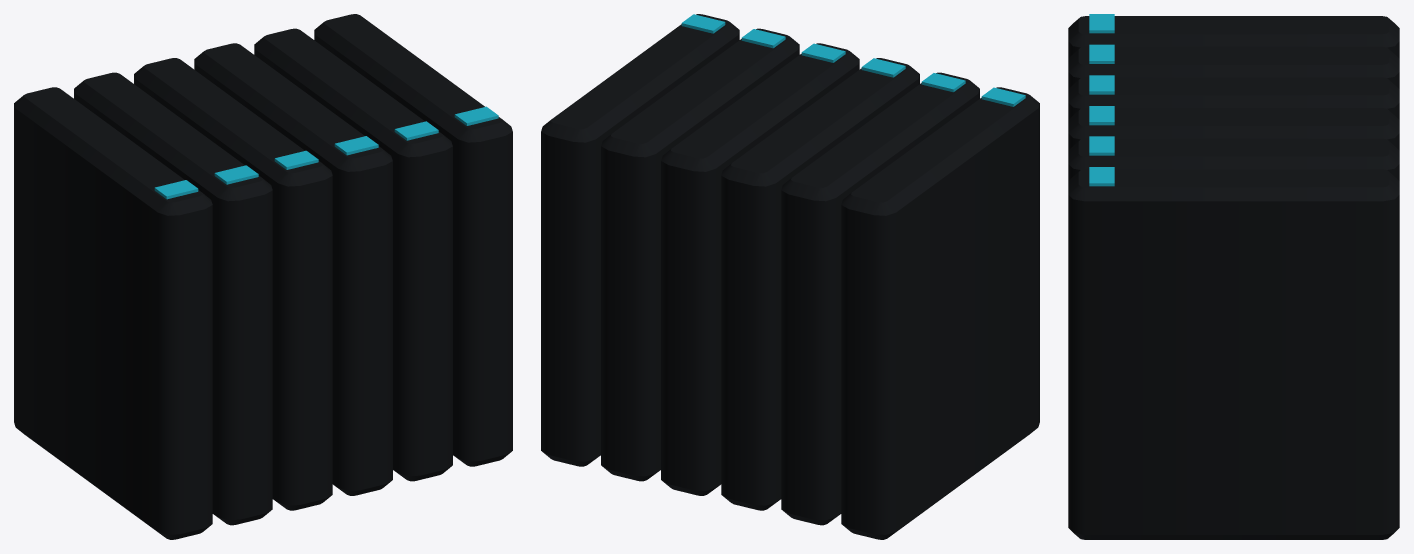
The model's file is mcc3_memory.obj.
3 renders of one model, left to right at view 1: azimuth 30°, elevation 25°; view 2: azimuth 150°, elevation 25°; view 3: azimuth 270°, elevation 25°, orthographic. The views are drawn at different scales.
Visible parts, largest first — view 1: mcc3_memory; view 2: mcc3_memory; view 3: mcc3_memory.
Part boxes in pixels (x1,y1,x2,y2): mcc3_memory: (14, 14, 512, 539); mcc3_memory: (541, 14, 1039, 539); mcc3_memory: (1068, 14, 1399, 539).
Size of the model in its own units: 1.01 by 0.928 by 0.784.
